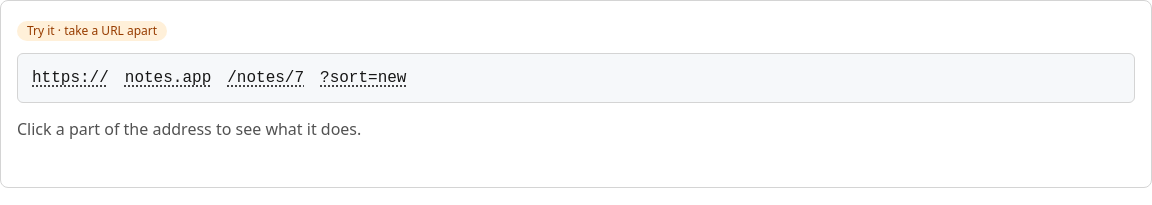
TryIt › explains each part of a URL, linking the words to the glossary
Expected: the text "Click a part of the address to see what it does." is shown, [17, 118, 361, 140]
Click the button "notes.app". click: point(168, 78)
box: [119, 62, 217, 94]
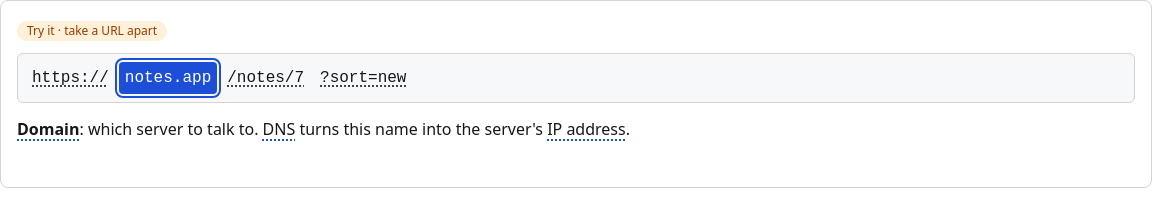
Result: the text "which server to talk to" is shown at [80, 118, 263, 140]
